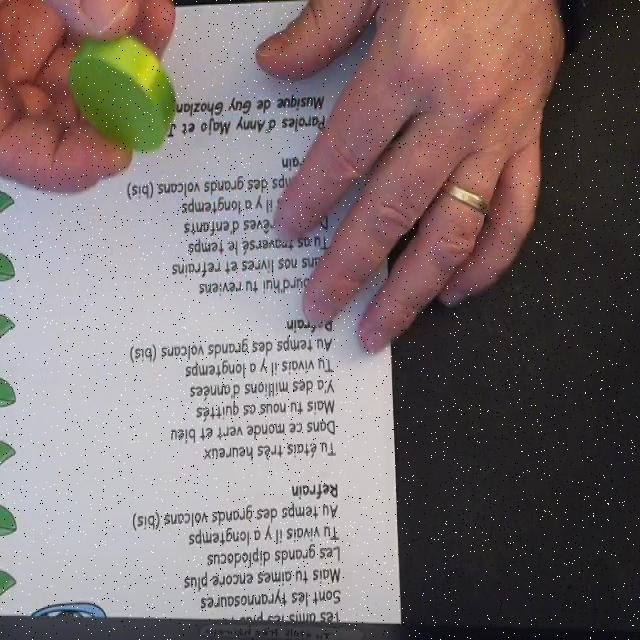round: (66, 31, 176, 152)
